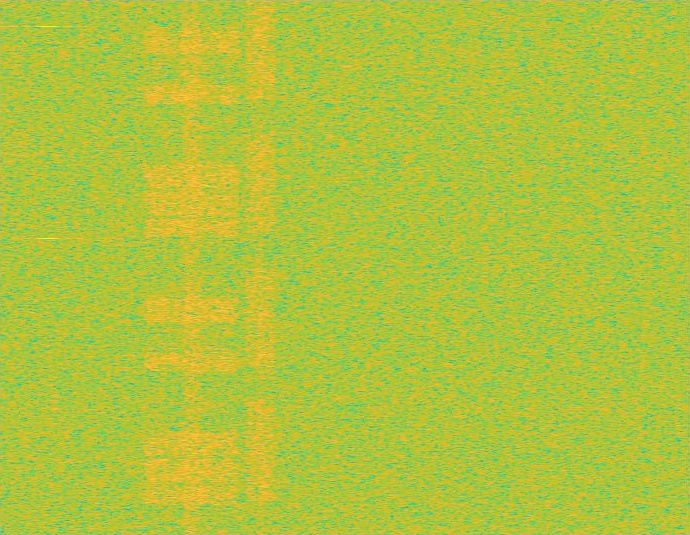5G: (243, 0, 278, 534)
DSSS: (180, 0, 203, 534), (258, 0, 263, 534)
LTE: (140, 0, 243, 534)
Radar: (41, 0, 55, 534)
